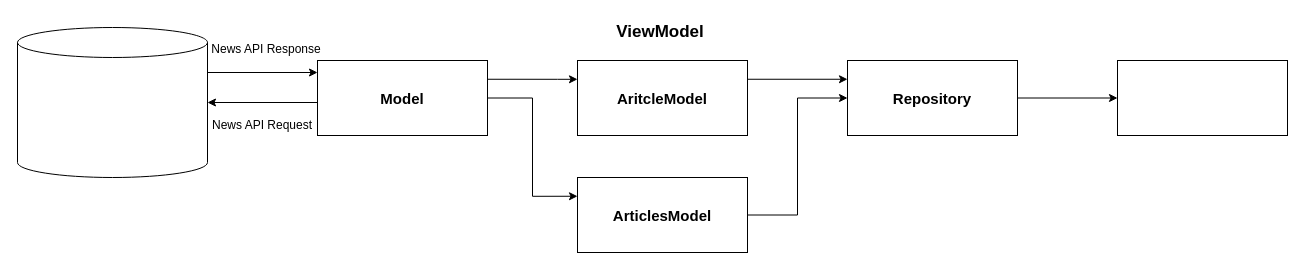
This 1305x270 diagram has some shape labels left out. The shapes that lost their labels are listed below. From the top down, each one's centre as x and y in pixels, then its label:
At point (112, 102): "News Org Database".
At point (1202, 98): "View".
